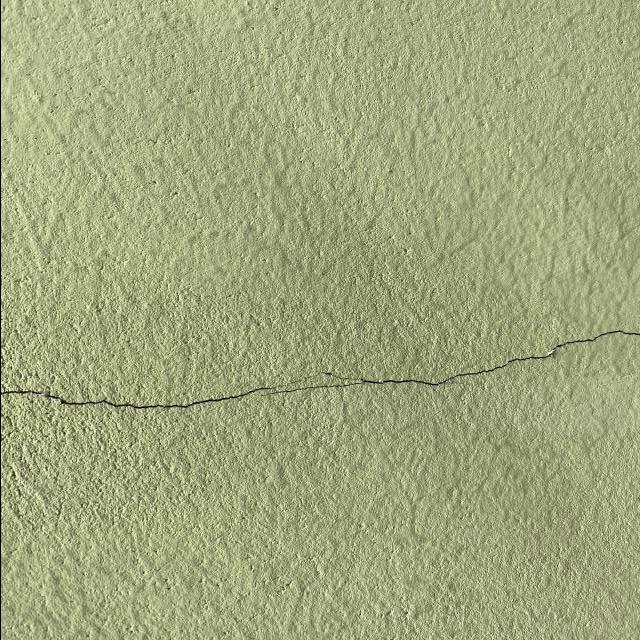SurfaceCrack: (1, 292, 640, 445)
